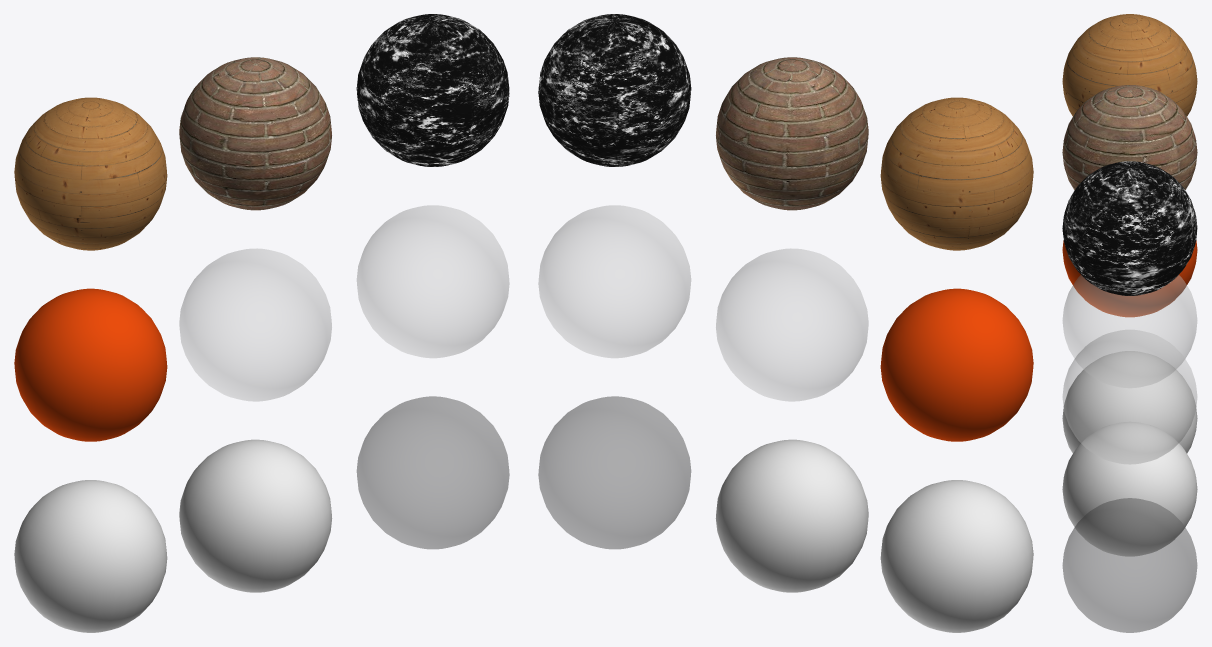
File: materials_test.glb
3 renders of one model, left to right at view 1: azimuth 30°, elevation 25°; view 2: azimuth 150°, elevation 25°; view 3: azimuth 270°, elevation 25°, orthographic. The views are drawn at different scales.
Parts seen in each view (by area): view 1: Sphere.006, Sphere.001, Sphere.003, Sphere.007, Sphere, Sphere.008, Sphere.002, Sphere.005, Sphere.004; view 2: Sphere.006, Sphere.001, Sphere.003, Sphere.007, Sphere, Sphere.008, Sphere.002, Sphere.005, Sphere.004; view 3: Sphere.008, Sphere.001, Sphere.002, Sphere.005, Sphere.004, Sphere.007, Sphere.006, Sphere, Sphere.003.
Boxes of the visible parts, x1=… form: Sphere.006: x1=14, y1=97, x2=167, y2=250; Sphere.001: x1=179, y1=439, x2=332, y2=592; Sphere.003: x1=14, y1=288, x2=167, y2=441; Sphere.007: x1=179, y1=57, x2=331, y2=210; Sphere: x1=14, y1=480, x2=167, y2=632; Sphere.008: x1=356, y1=14, x2=509, y2=166; Sphere.002: x1=356, y1=396, x2=509, y2=549; Sphere.005: x1=357, y1=205, x2=509, y2=357; Sphere.004: x1=179, y1=248, x2=331, y2=401; Sphere.006: x1=880, y1=97, x2=1033, y2=250; Sphere.001: x1=715, y1=439, x2=868, y2=592; Sphere.003: x1=880, y1=288, x2=1033, y2=441; Sphere.007: x1=716, y1=57, x2=868, y2=210; Sphere: x1=880, y1=480, x2=1033, y2=632; Sphere.008: x1=538, y1=14, x2=691, y2=166; Sphere.002: x1=538, y1=396, x2=691, y2=549; Sphere.005: x1=538, y1=205, x2=690, y2=357; Sphere.004: x1=716, y1=248, x2=868, y2=401; Sphere.008: x1=1062, y1=161, x2=1197, y2=295; Sphere.001: x1=1062, y1=421, x2=1197, y2=556; Sphere.002: x1=1062, y1=498, x2=1197, y2=632; Sphere.005: x1=1062, y1=330, x2=1197, y2=464; Sphere.004: x1=1062, y1=275, x2=1197, y2=387; Sphere.007: x1=1062, y1=85, x2=1197, y2=189; Sphere.006: x1=1062, y1=14, x2=1197, y2=116; Sphere: x1=1062, y1=351, x2=1197, y2=453; Sphere.003: x1=1062, y1=240, x2=1197, y2=317.
Size of the model in its own units: 7.16 by 7.5 by 2.
Materials: 9 (3 with a texture image).
